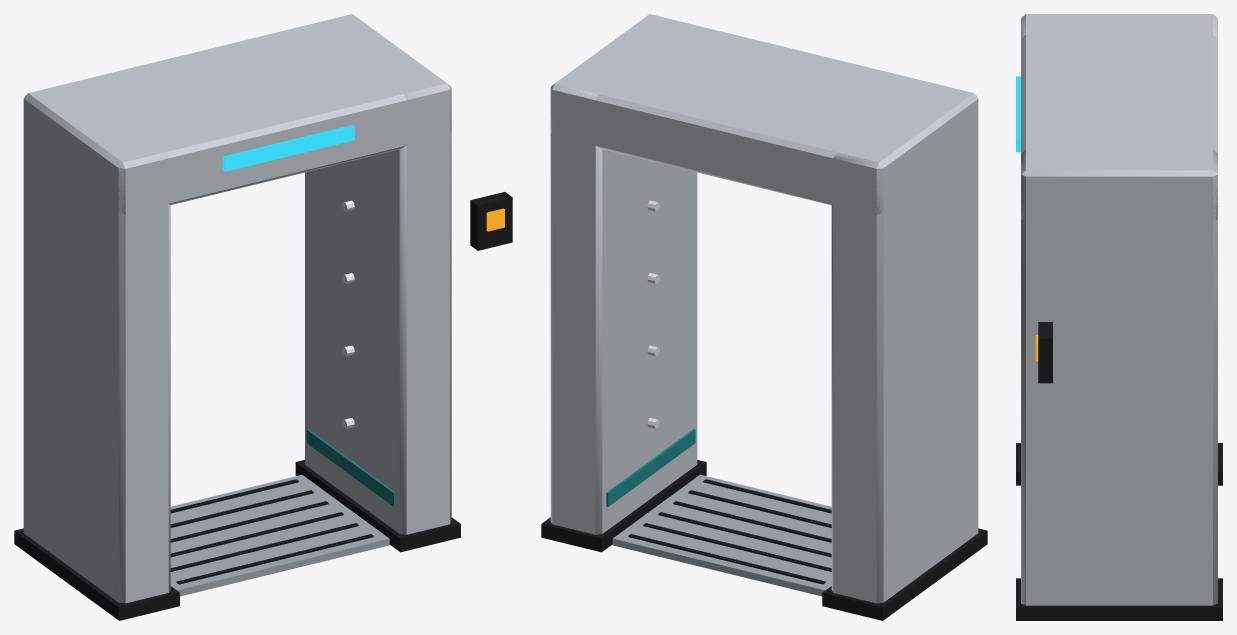
The model's file is suitrack_decontamination_arch.glb.
The picture shows the model from 3 angles, left to right: view 1: azimuth 30°, elevation 25°; view 2: azimuth 150°, elevation 25°; view 3: azimuth 270°, elevation 25°; orthographic projection.
Visible parts, largest first — view 1: suitrack_decontamination_arch; view 2: suitrack_decontamination_arch; view 3: suitrack_decontamination_arch.
Boxes of the visible parts, x1=… form: suitrack_decontamination_arch: x1=14, y1=14, x2=512, y2=620; suitrack_decontamination_arch: x1=541, y1=14, x2=987, y2=620; suitrack_decontamination_arch: x1=1016, y1=14, x2=1222, y2=620.
Size of the model in its own units: 1.87 by 2 by 0.84.
